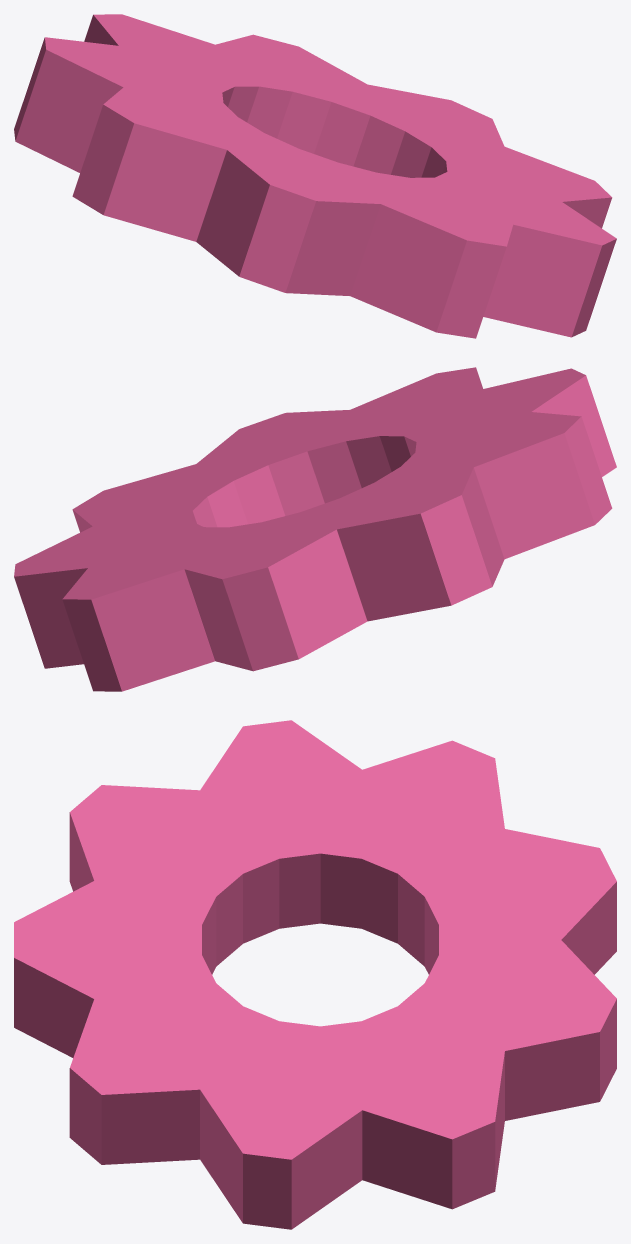
File: Geargeo6.fbx
The picture shows the model from 3 angles, top to bottom: view 1: azimuth 30°, elevation 25°; view 2: azimuth 150°, elevation 25°; view 3: azimuth 270°, elevation 25°; orthographic projection.
Parts seen in each view (by area): view 1: Gear6; view 2: Gear6; view 3: Gear6.
Boxes of the visible parts, x1,y1,x2,y2 form: Gear6: [14, 14, 616, 338]; Gear6: [14, 367, 616, 691]; Gear6: [14, 720, 616, 1229].
Size of the model in its own units: 69.51 by 35.7 by 68.95.
